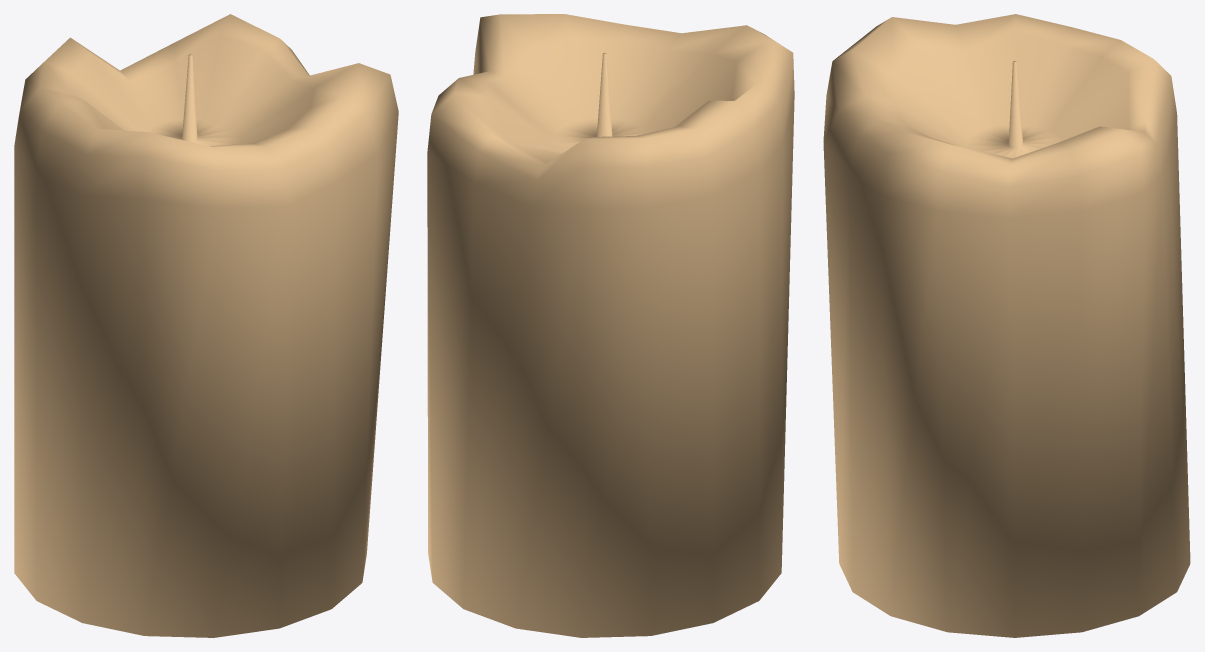
File: Mum.fbx
3 renders of one model, left to right at view 1: azimuth 30°, elevation 25°; view 2: azimuth 150°, elevation 25°; view 3: azimuth 270°, elevation 25°, orthographic.
Parts seen in each view (by area): view 1: Mum; view 2: Mum; view 3: Mum.
Part boxes in pixels (x1,y1,x2,y2): Mum: [14, 14, 398, 637]; Mum: [427, 14, 794, 637]; Mum: [823, 14, 1190, 637].
Size of the model in its own units: 23.22 by 34.9 by 23.13.
